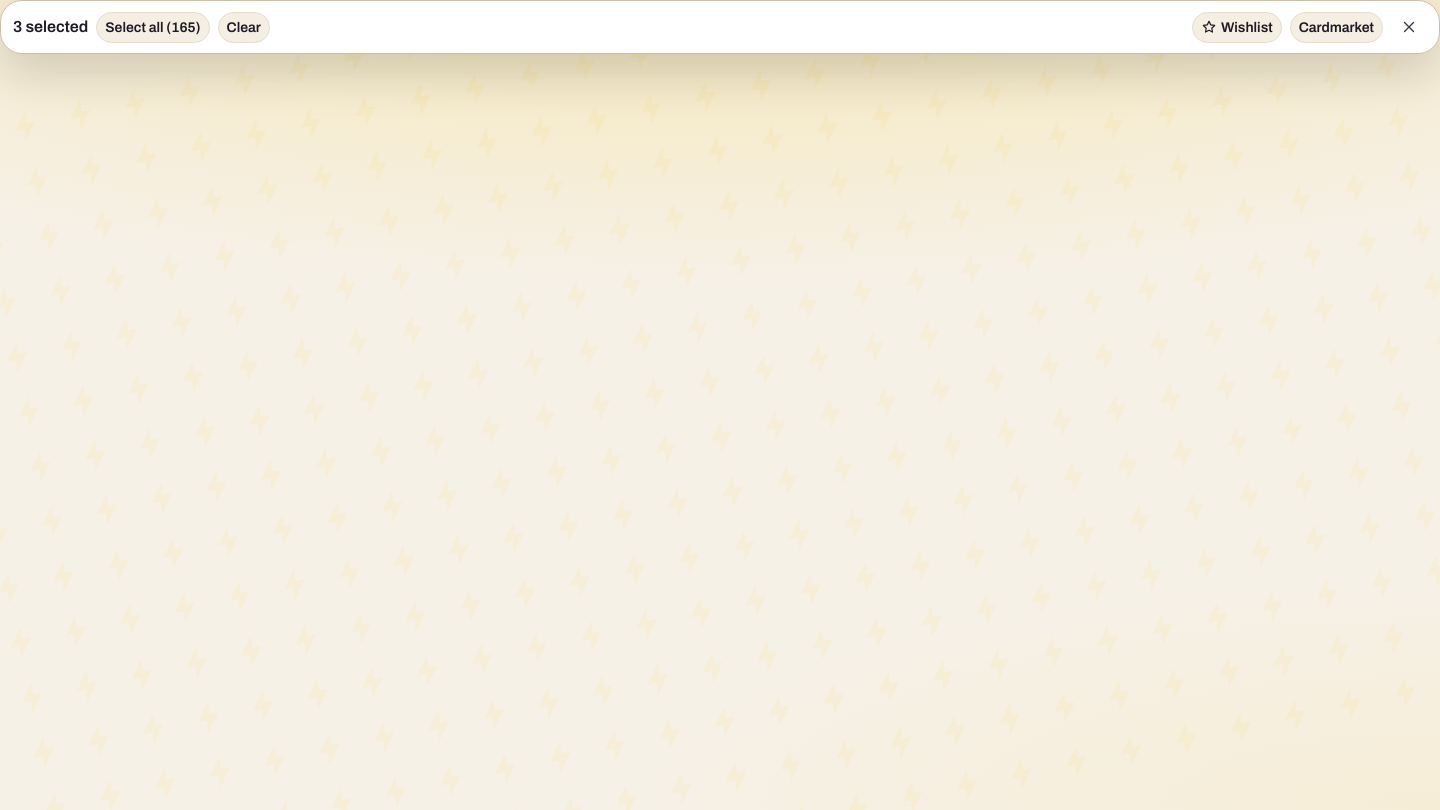
Test: SetSelectionBar: wishlist › voegt alleen nieuwe kaarten toe en zet ook de bestaande wens in de gekozen eigen lijst
Click the button "Wishlist" at (1237, 27), box top-left (1192, 12), bottom-right (1282, 42)
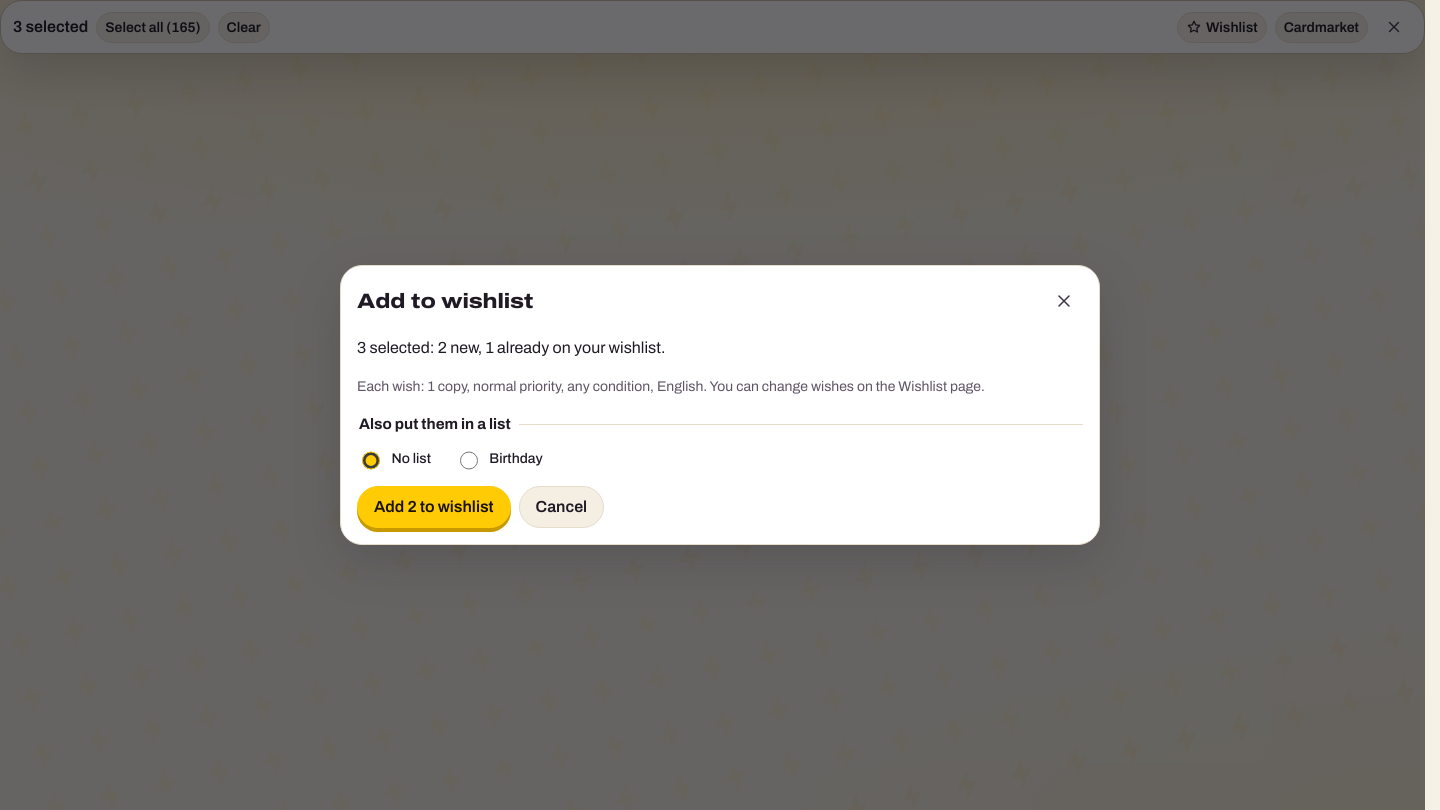
Expected: the text "3 selected: 2 new, 1 already on your wishlist." is shown, top-left (357, 339), bottom-right (665, 356)
Click the radio button labelled "Birthday" at (469, 460), box top-left (460, 451), bottom-right (478, 470)
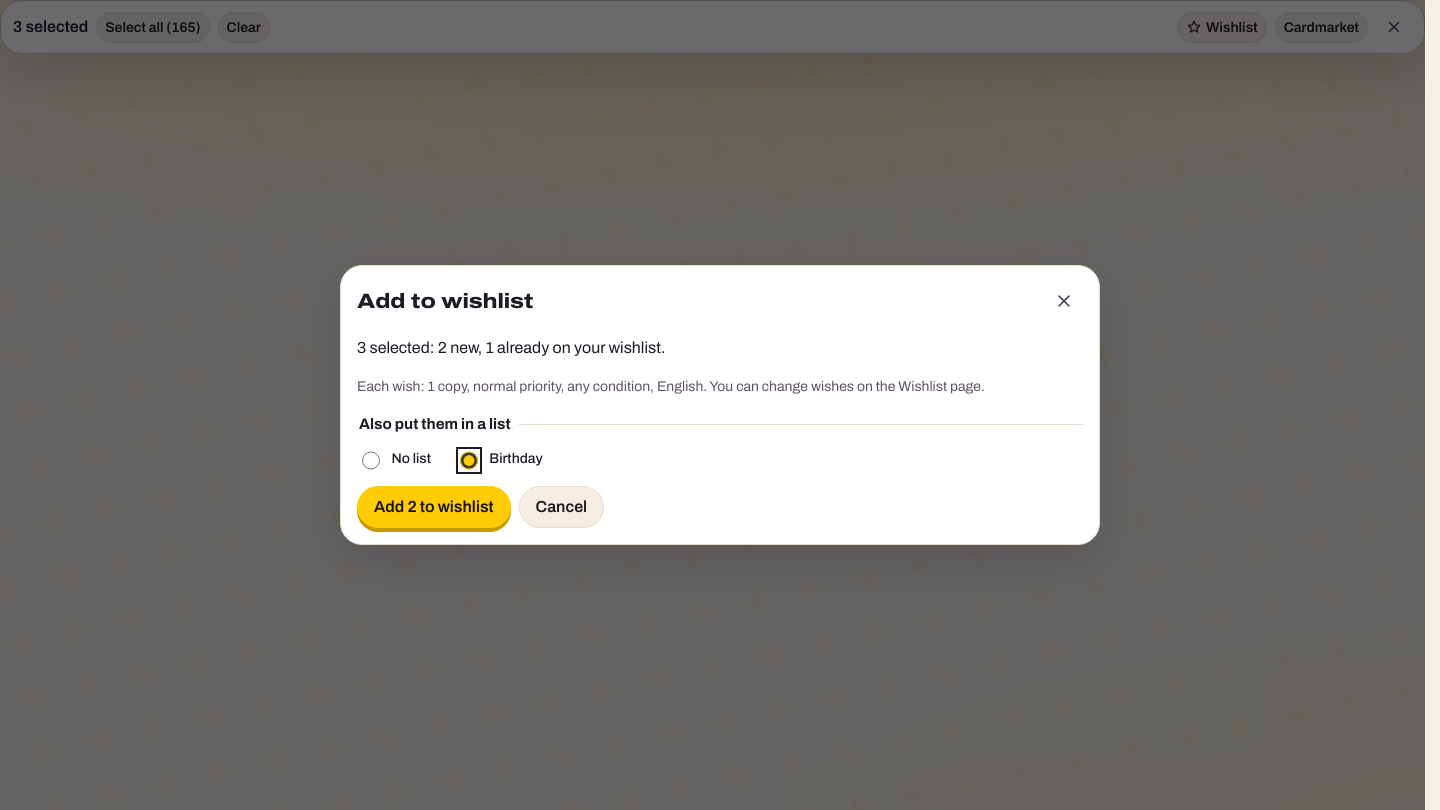
Click the button "Add 2 to wishlist" at (434, 507), box top-left (357, 486), bottom-right (511, 528)
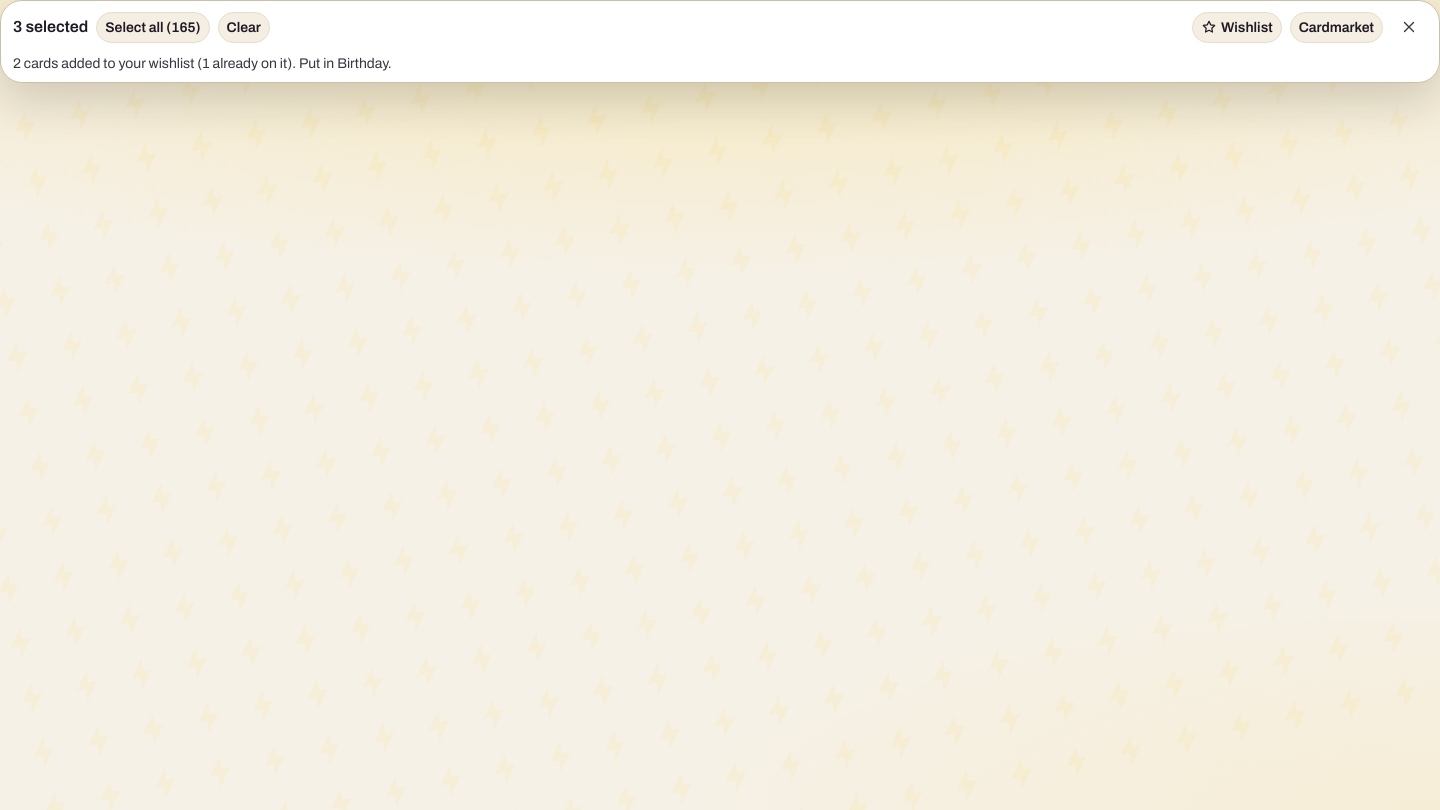
Expected: the message reads "2 cards added to your wishlist (1 already on it). Put in Birthday.", top-left (13, 56), bottom-right (392, 71)
Expected: the dialog is gone
